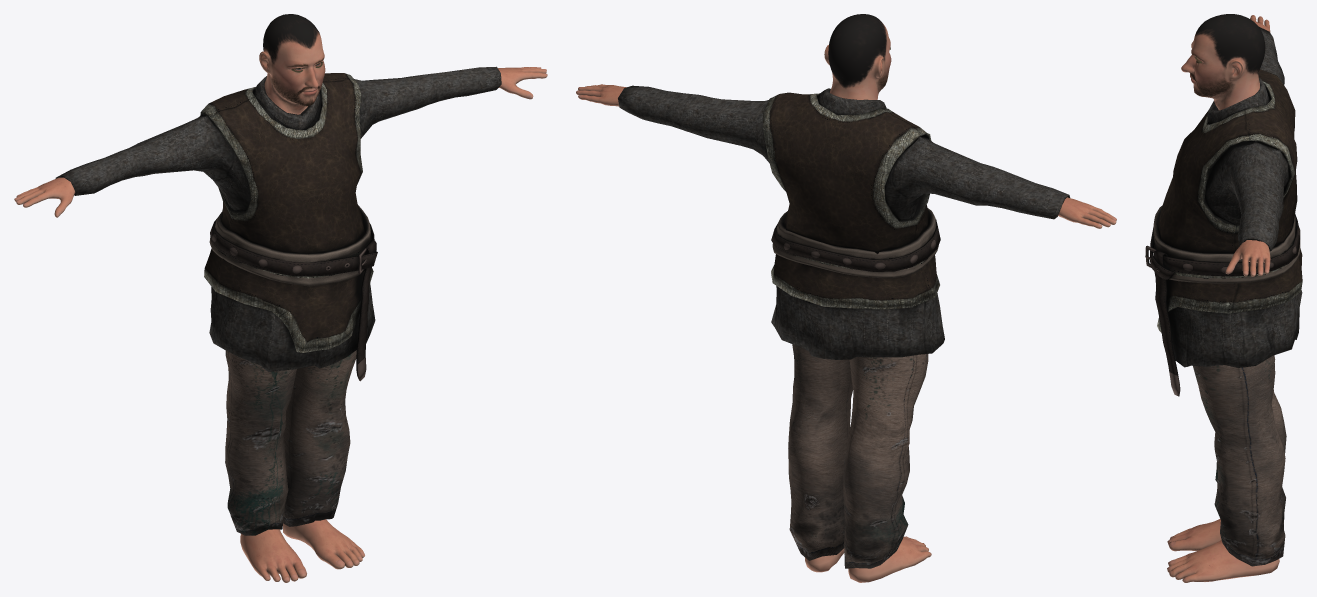
File: male1.obj
3 renders of one model, left to right at view 1: azimuth 30°, elevation 25°; view 2: azimuth 150°, elevation 25°; view 3: azimuth 270°, elevation 25°, orthographic.
Visible parts, largest first — view 1: Tops, Bottoms, Body; view 2: Tops, Bottoms, Body; view 3: Tops, Bottoms, Body.
Boxes of the visible parts, left/top/right/bottom form: Tops: left=55, top=66, right=501, bottom=381; Bottoms: left=225, top=350, right=356, bottom=535; Body: left=14, top=14, right=547, bottom=582; Tops: left=618, top=85, right=1070, bottom=359; Bottoms: left=788, top=344, right=928, bottom=568; Body: left=576, top=14, right=1116, bottom=582; Tops: left=1145, top=26, right=1302, bottom=396; Bottoms: left=1193, top=355, right=1286, bottom=566; Body: left=1167, top=14, right=1279, bottom=582.
Size of the model in its own units: 181 by 175 by 45.94.
Materials: 3 (3 with a texture image).
